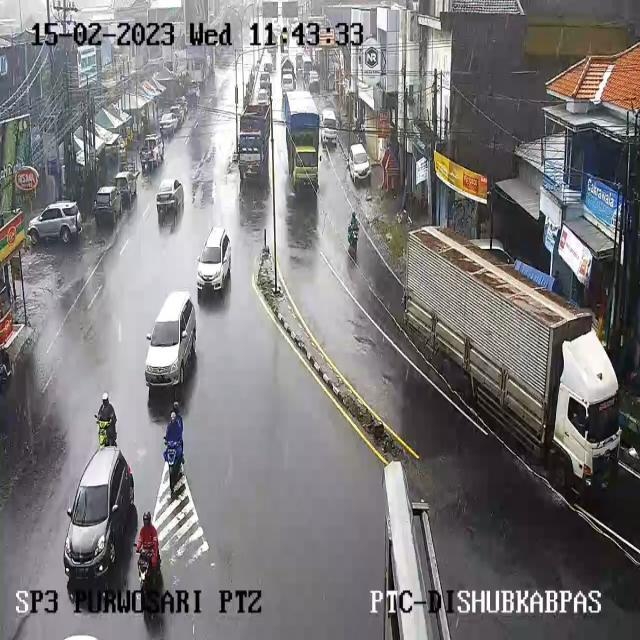Car: (63, 444, 136, 592), (144, 292, 196, 387), (196, 227, 232, 295), (27, 202, 81, 246), (92, 186, 124, 226), (156, 178, 183, 218), (113, 170, 139, 207), (139, 134, 164, 170), (348, 143, 370, 183), (320, 109, 338, 142), (159, 112, 179, 134), (170, 104, 187, 126), (185, 86, 199, 110), (258, 72, 271, 94), (302, 52, 313, 78), (282, 71, 296, 91), (174, 97, 188, 116), (262, 51, 274, 73), (308, 70, 320, 92), (256, 88, 270, 105), (266, 42, 278, 58), (296, 52, 304, 70), (280, 34, 288, 52), (280, 53, 288, 67)
Motorbike: (139, 510, 163, 599), (164, 406, 190, 487), (95, 397, 117, 448), (347, 214, 361, 260)
Truck: (398, 226, 606, 485), (282, 91, 320, 190), (237, 101, 272, 185)
